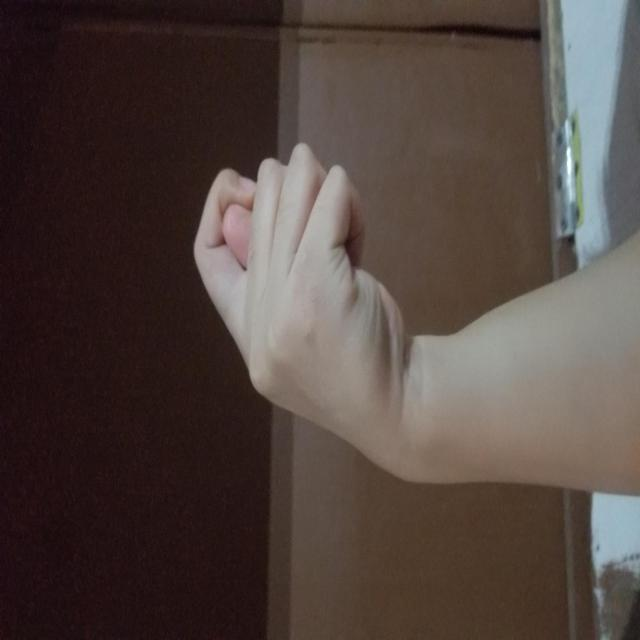T: (182, 192, 498, 406)
